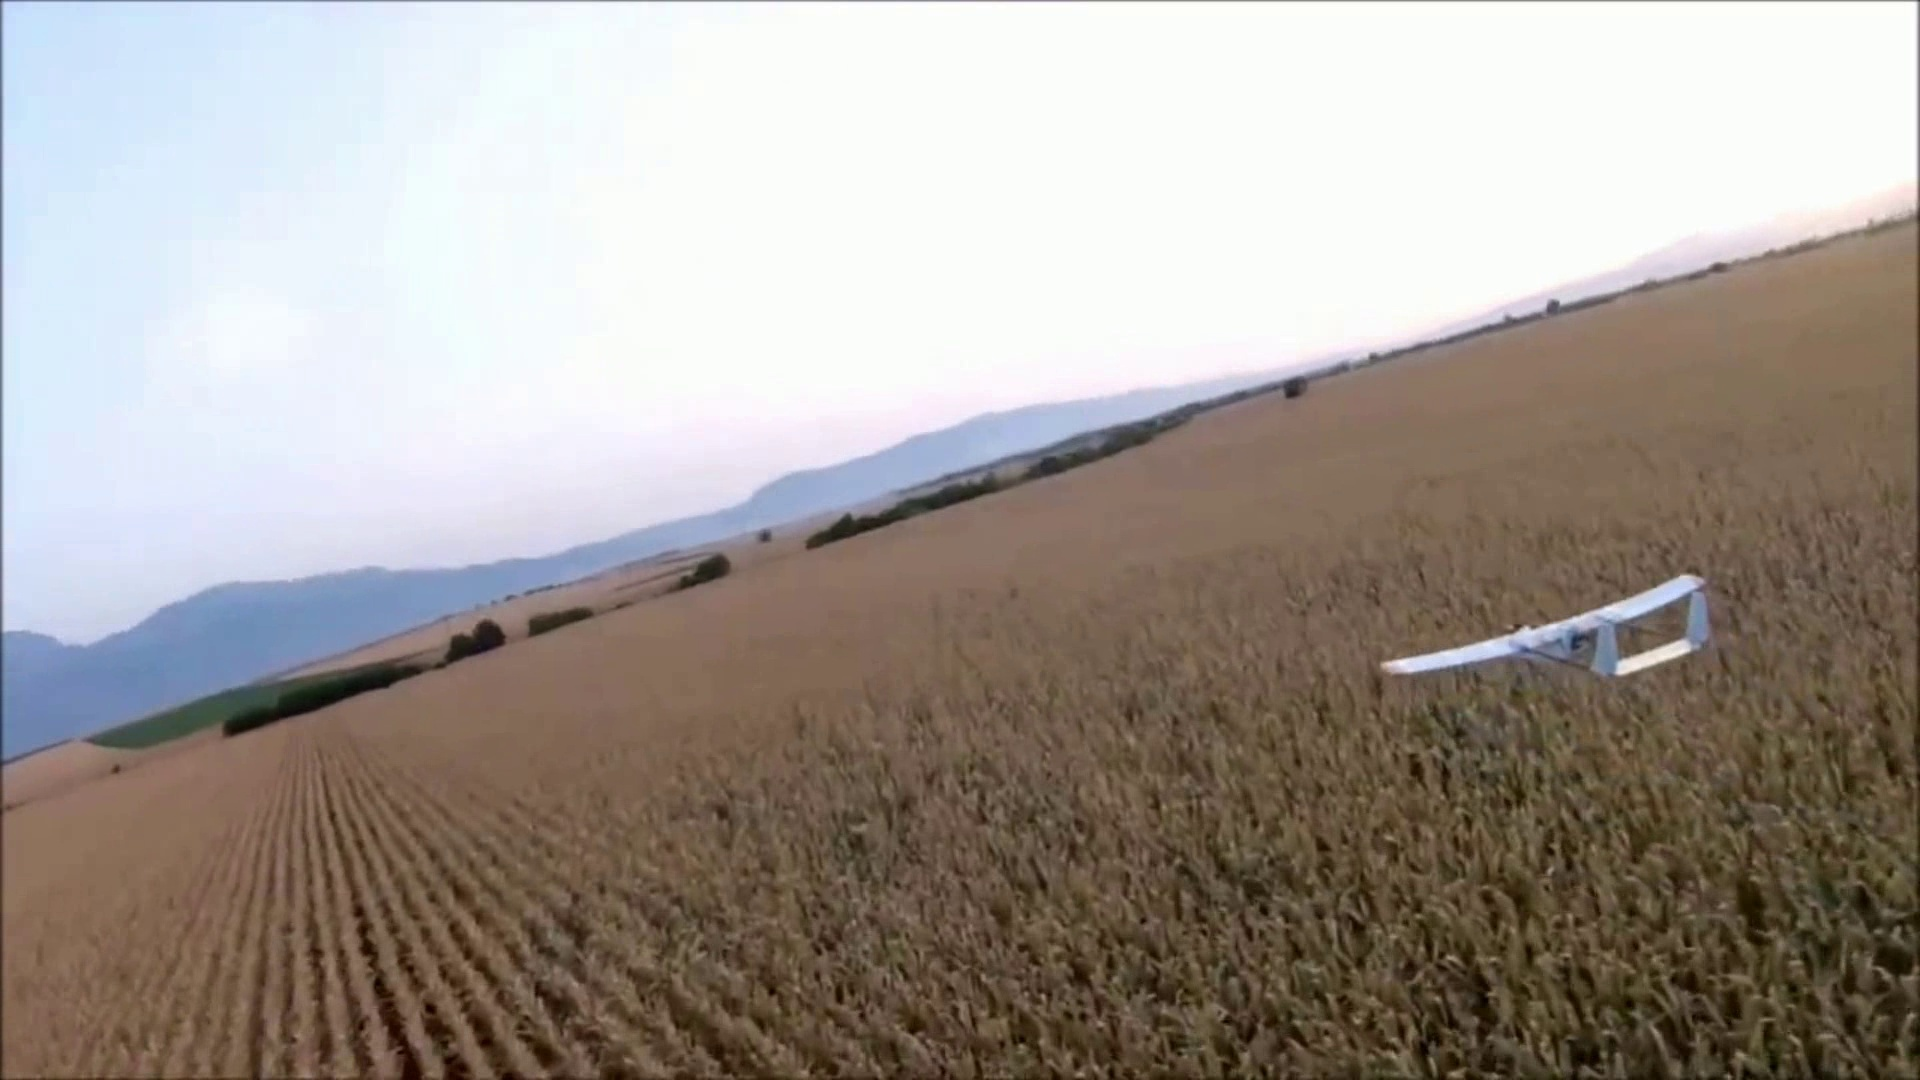airplane: (7, 210, 1894, 773), (1381, 578, 1713, 684)
